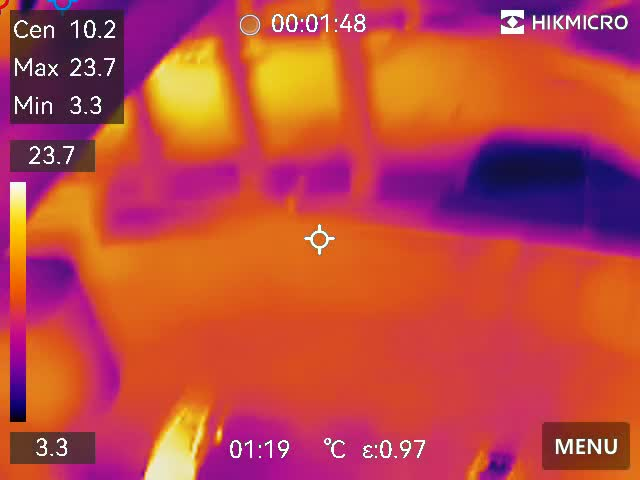vehicle: (133, 398, 221, 480)
